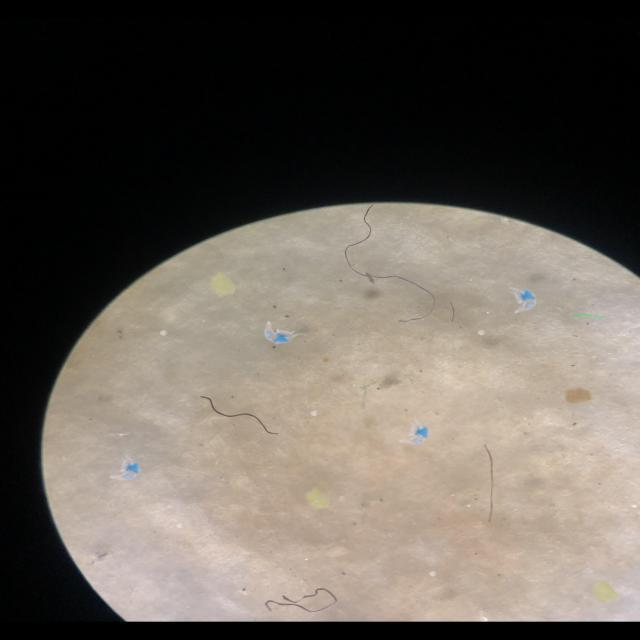fiber: (341, 205, 437, 323), (199, 391, 285, 438), (263, 585, 342, 613), (475, 443, 503, 521)
film: (258, 318, 308, 350), (101, 453, 151, 483), (503, 285, 544, 319), (393, 416, 433, 450)
fragment: (562, 385, 603, 411), (211, 269, 241, 299), (588, 581, 622, 605), (302, 486, 326, 509)
pallet: (173, 520, 197, 534), (423, 568, 446, 582), (305, 409, 327, 421), (157, 330, 179, 342), (474, 327, 492, 339)
